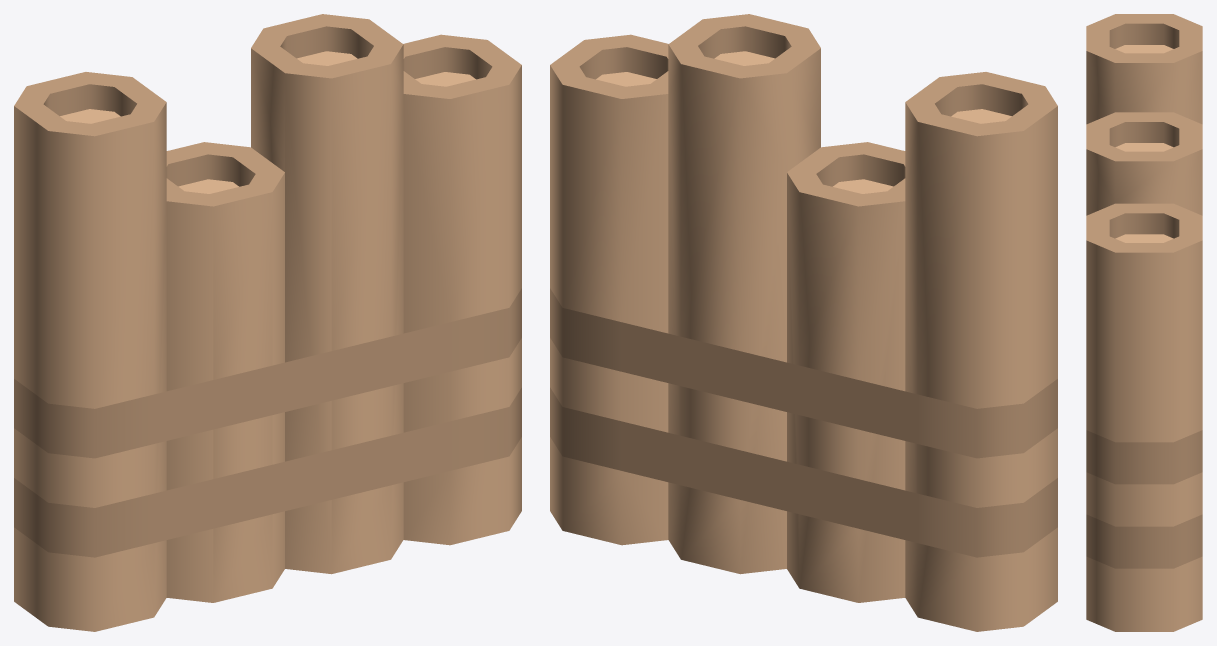
3 renders of one model, left to right at view 1: azimuth 30°, elevation 25°; view 2: azimuth 150°, elevation 25°; view 3: azimuth 270°, elevation 25°, orthographic. The views are drawn at different scales.
Parts seen in each view (by area): view 1: poles; view 2: poles; view 3: poles.
Boxes of the visible parts, x1,y1,x2,y2 form: poles: [14, 14, 521, 631]; poles: [550, 14, 1057, 631]; poles: [1086, 14, 1202, 631].
Bounding box in the file's own units: 1 × 1 × 0.25.
